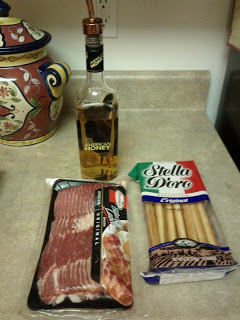bacon: (43, 171, 131, 314)
